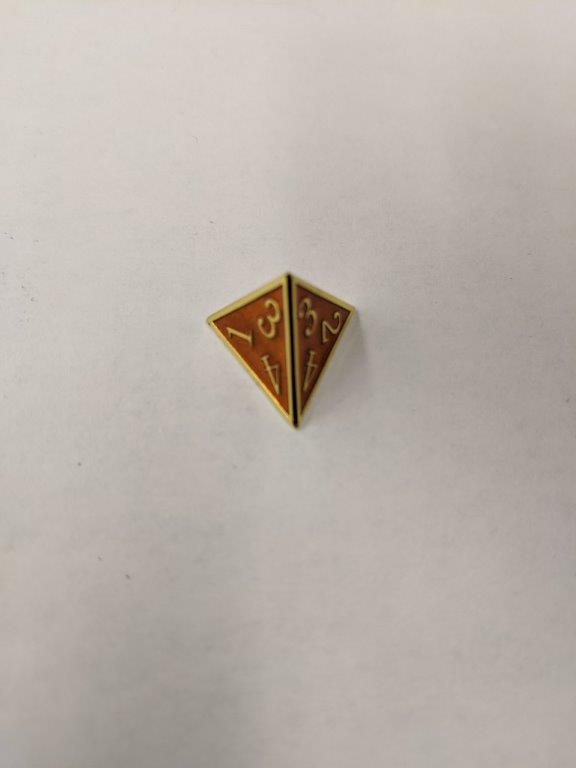d4-3: (200, 269, 358, 435)
